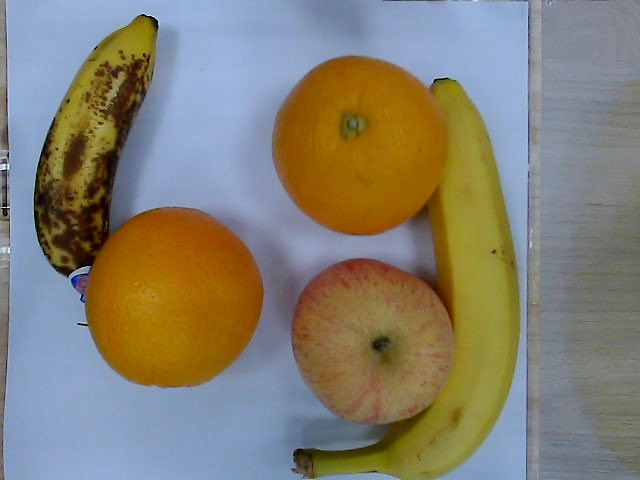fresh_apple: (292, 261, 453, 417)
fresh_banana: (379, 76, 523, 480)
fresh_orange: (87, 206, 263, 387), (273, 55, 444, 233)
rotten_banana: (36, 13, 159, 281)
